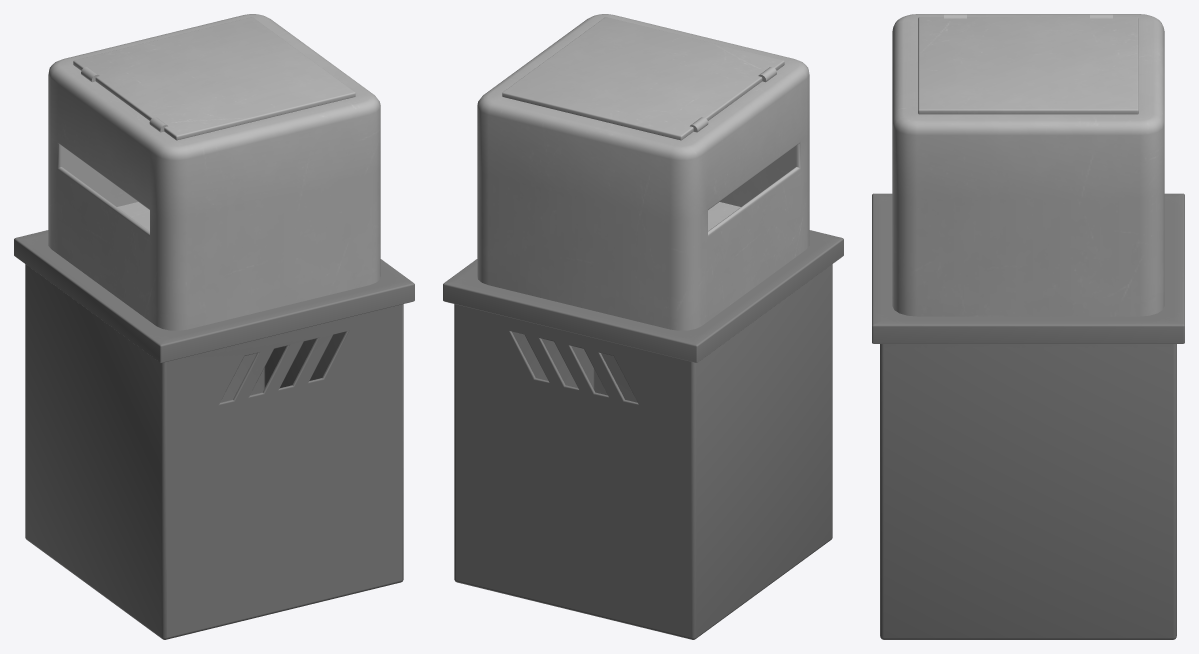
Rendered from SM_Trashcan.fbx.
The picture shows the model from 3 angles, left to right: view 1: azimuth 30°, elevation 25°; view 2: azimuth 150°, elevation 25°; view 3: azimuth 270°, elevation 25°; orthographic projection. The views are drawn at different scales.
Parts seen in each view (by area): view 1: SM_Trashcan; view 2: SM_Trashcan; view 3: SM_Trashcan.
Part boxes in pixels (x1,y1,x2,y2): SM_Trashcan: (14, 14, 414, 639); SM_Trashcan: (443, 14, 843, 639); SM_Trashcan: (872, 14, 1184, 639).
Bounding box in the file's own units: 32.36 × 32.36 × 59.05.
1 material, 1 textured.
